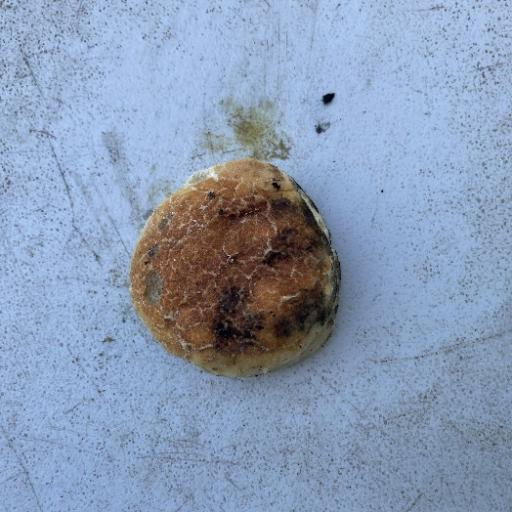Waste: (127, 156, 342, 379)
